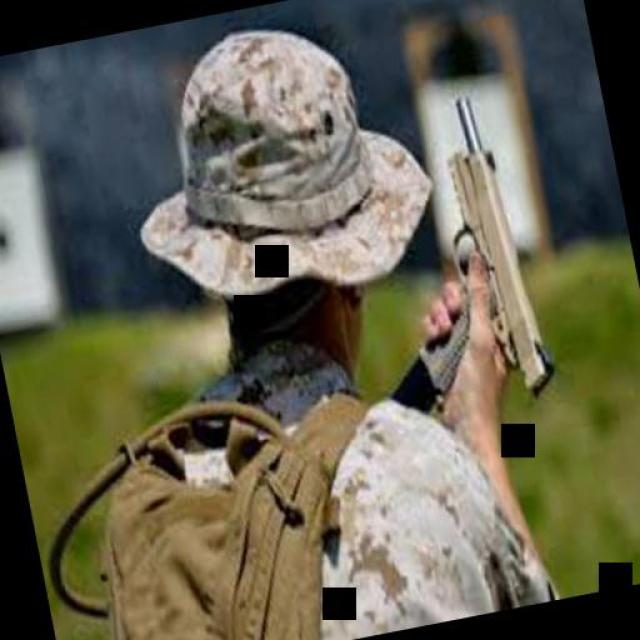gun: (354, 89, 561, 432)
